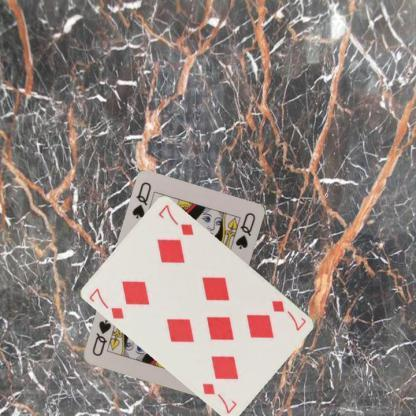7d: (269, 298, 308, 332), (87, 286, 126, 320)
Qs: (130, 180, 152, 221)
